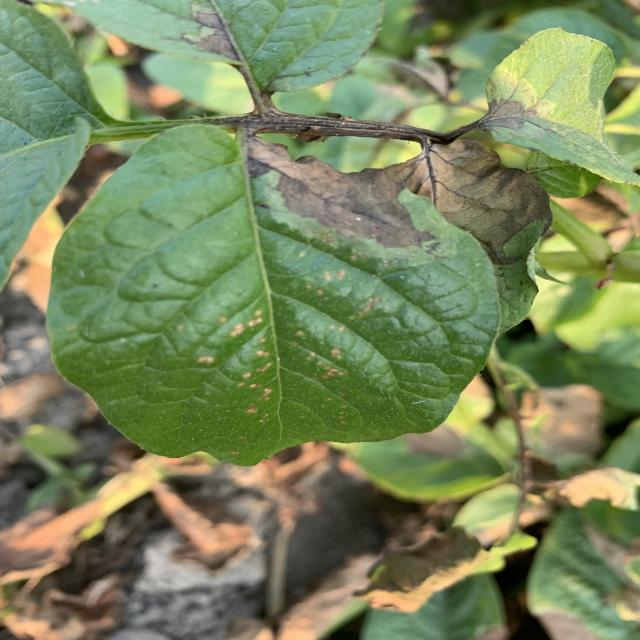lateblight: (247, 136, 433, 248), (385, 140, 552, 264)
